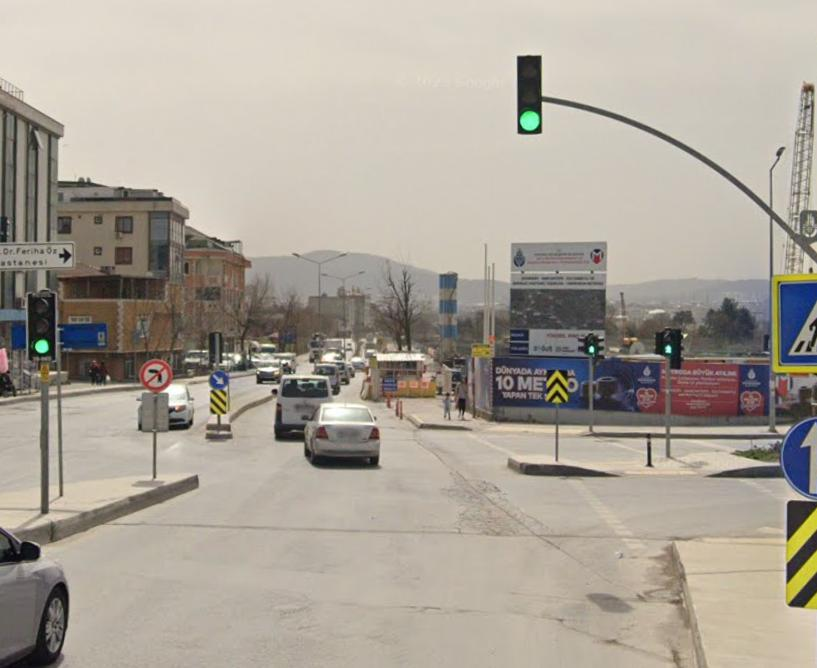greenlight: (23, 291, 59, 358)
leftturnsareforbidden: (140, 359, 171, 393)
